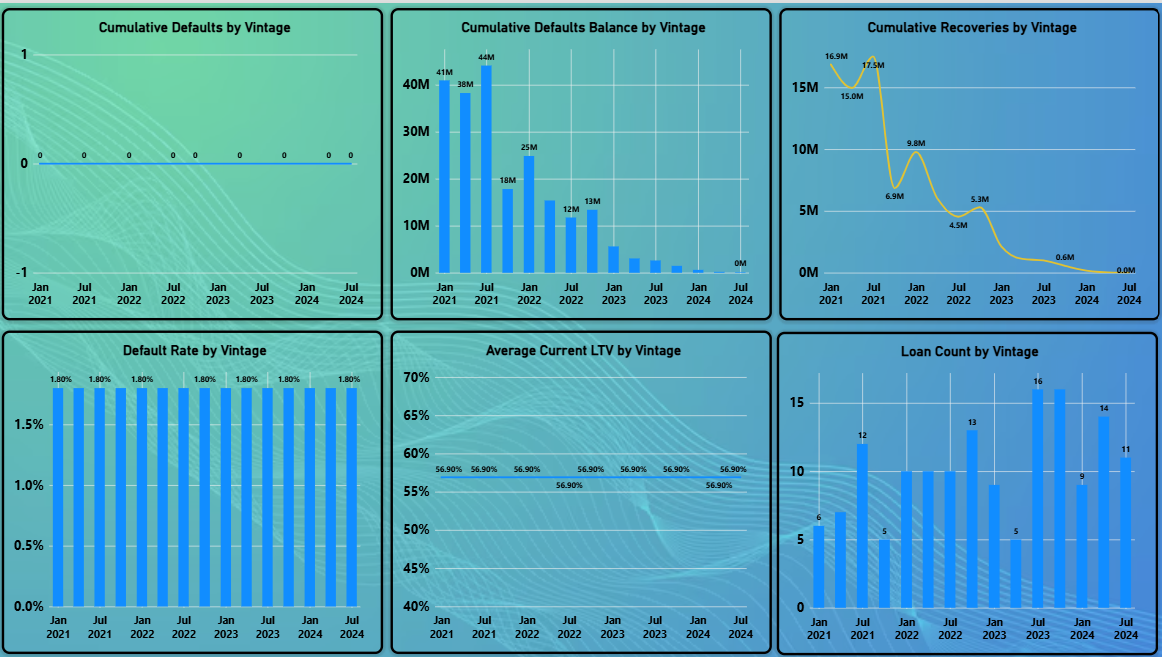

Layout of this report page (visuals, bound fields, positions):
{"tool":"powerbi","page":{"name":"Vintage & Portfolio Trends Analysis","canvas":[1920,1080],"ordinal":4},"visuals":[{"type":"lineChart","title":" Cumulative Defaults by Vintage","fields":{"Category":["Vintage.VintageStartDate"],"Y":["Sum(Vintage.CumulativeDefaults_Count)"]},"box":[6.2,8.2,627.8,514.6],"z":0},{"type":"clusteredColumnChart","title":"Cumulative Defaults Balance by Vintage","fields":{"Category":["Vintage.VintageStartDate"],"Y":["Sum(Vintage.CumulativeDefaults_Balance)"]},"box":[646.3,8.2,627.8,514.6],"z":1000},{"type":"lineChart","title":"Cumulative Recoveries by Vintage","fields":{"Category":["Vintage.VintageStartDate"],"Y":["Sum(Vintage.CumulativeRecoveries)"]},"box":[1286.5,8.2,627.8,514.6],"z":2000},{"type":"clusteredColumnChart","title":"Default Rate by Vintage","fields":{"Category":["Vintage.VintageStartDate"],"Y":["Measures (2).Default Rate"]},"box":[6.2,539.3,627.8,533.1],"z":3000},{"type":"clusteredColumnChart","title":"Loan Count by Vintage","fields":{"Category":["Vintage.VintageStartDate"],"Y":["Measures (2).Loan Count by Vintage"]},"box":[1282.3,541.3,627.8,533.1],"z":4000},{"type":"lineChart","title":"Average Current LTV by Vintage","fields":{"Category":["Vintage.VintageStartDate"],"Y":["Avg(Loan.LTV_Current)"]},"box":[646,539,628,533],"z":5000}]}

Visuals, with their boxes in screenshot pixels (x1, y1, x2, y2), scaled from the page's 1920x1080 canvas onto the 1162x657 screenshot:
" Cumulative Defaults by Vintage" lineChart: 4 5 384 318
"Cumulative Defaults Balance by Vintage" clusteredColumnChart: 391 5 771 318
"Cumulative Recoveries by Vintage" lineChart: 779 5 1159 318
"Default Rate by Vintage" clusteredColumnChart: 4 328 384 652
"Loan Count by Vintage" clusteredColumnChart: 776 329 1156 654
"Average Current LTV by Vintage" lineChart: 391 328 771 652
